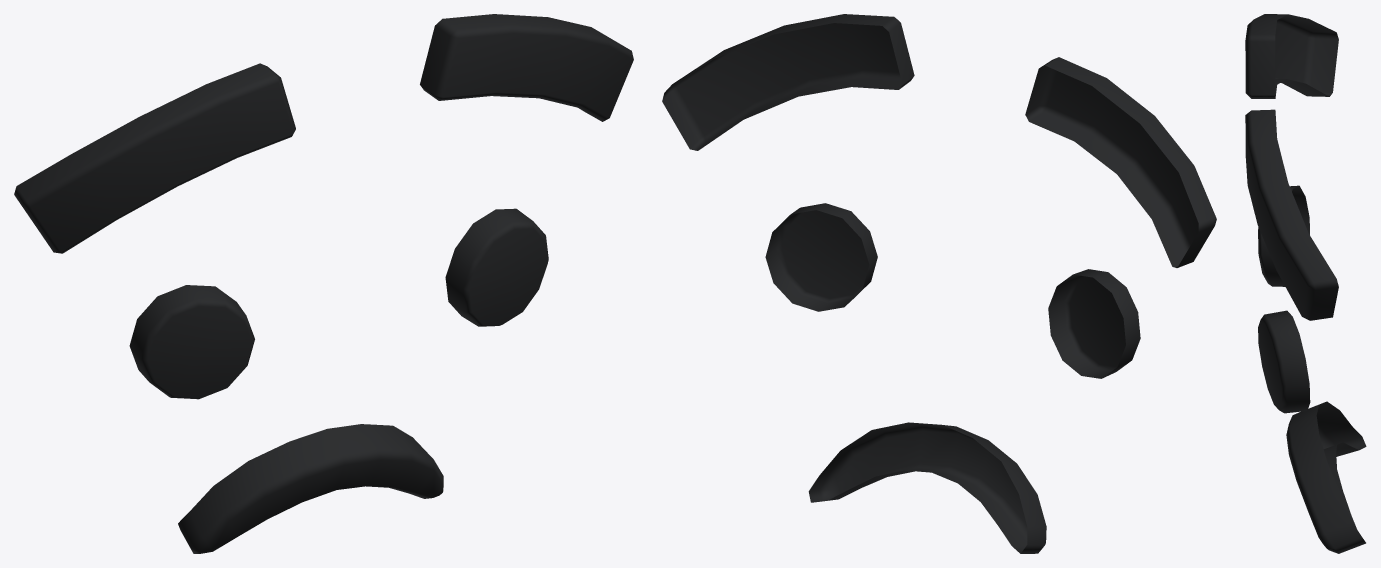
File: Male_Emotion_Sad_01.glb
The picture shows the model from 3 angles, left to right: view 1: azimuth 30°, elevation 25°; view 2: azimuth 150°, elevation 25°; view 3: azimuth 270°, elevation 25°; orthographic projection. The views are drawn at different scales.
Parts seen in each view (by area): view 1: Male_Emotion_Sad_01; view 2: Male_Emotion_Sad_01; view 3: Male_Emotion_Sad_01.
Boxes of the visible parts, x1,y1,x2,y2 form: Male_Emotion_Sad_01: [14, 14, 633, 553]; Male_Emotion_Sad_01: [662, 14, 1216, 553]; Male_Emotion_Sad_01: [1245, 14, 1366, 553].
Bounding box in the file's own units: 0.2545 × 0.204 × 0.0518.
1 material, 1 textured.
